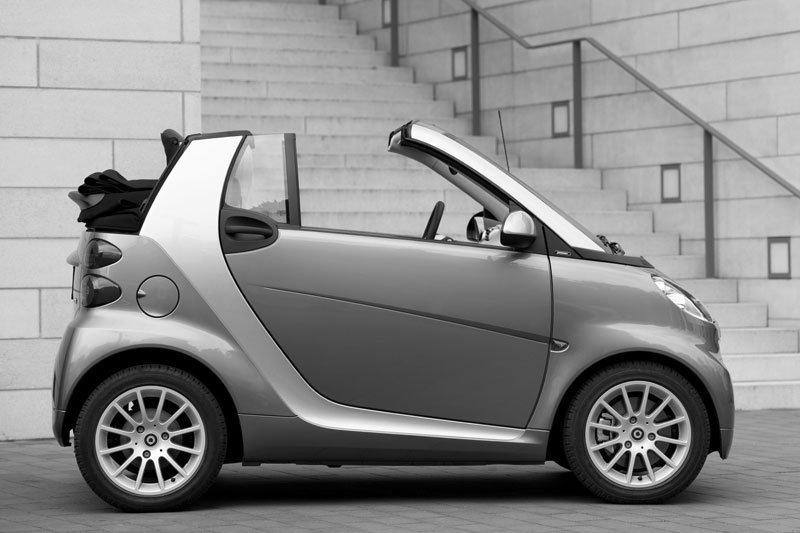car: (52, 118, 743, 513)
